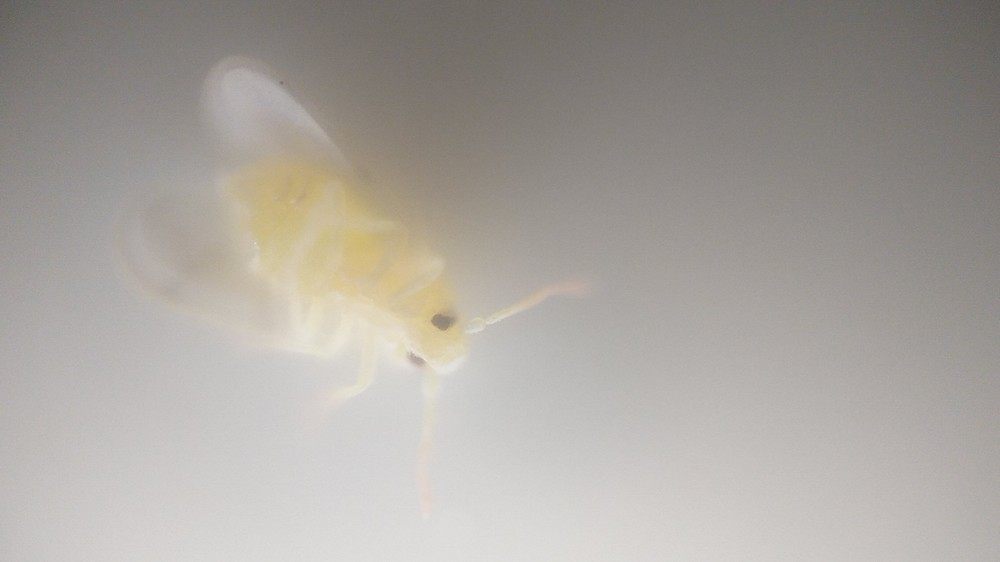Mosca Blanca: (95, 63, 597, 545)
